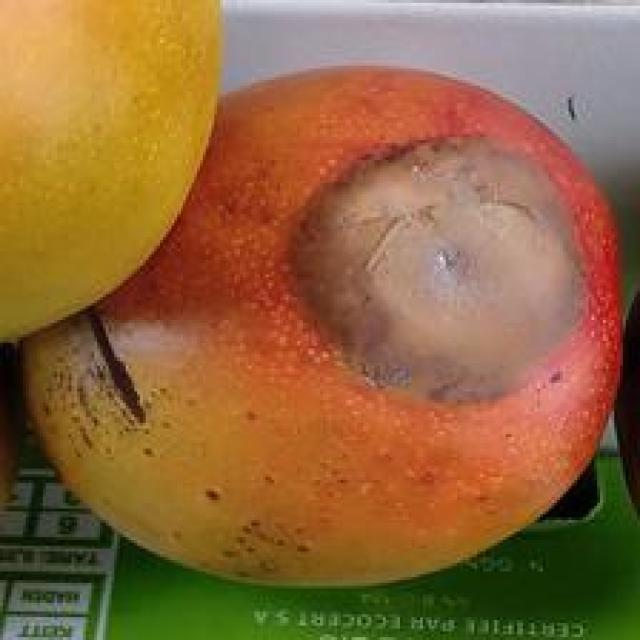Mango: (9, 81, 640, 604)
